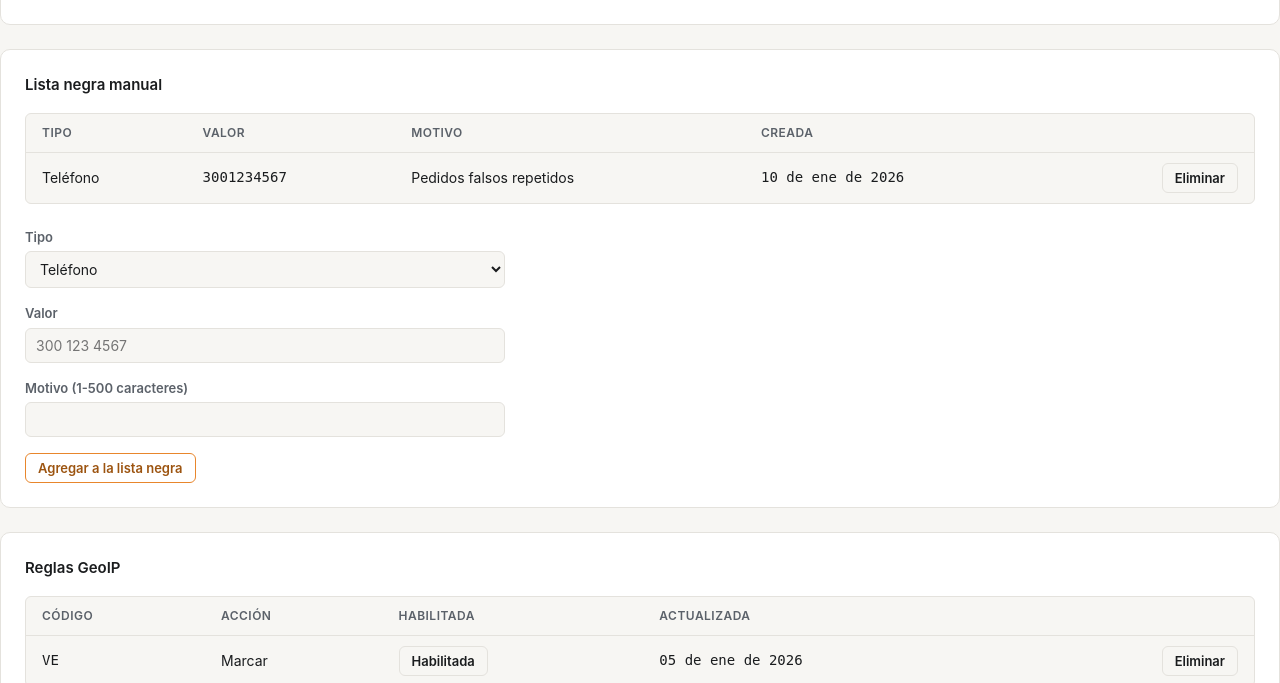
Test: FraudPage › binds a duplicate blacklist entry rejection without touching the existing row
This screenshot has width=1280, height=683.
(page scrolled)
expect the text "3001234567" is shown: met, box [187,152,395,203]
Type "3001234567" into the field labelled "Valor" at [265, 345], box [25,328,505,363]
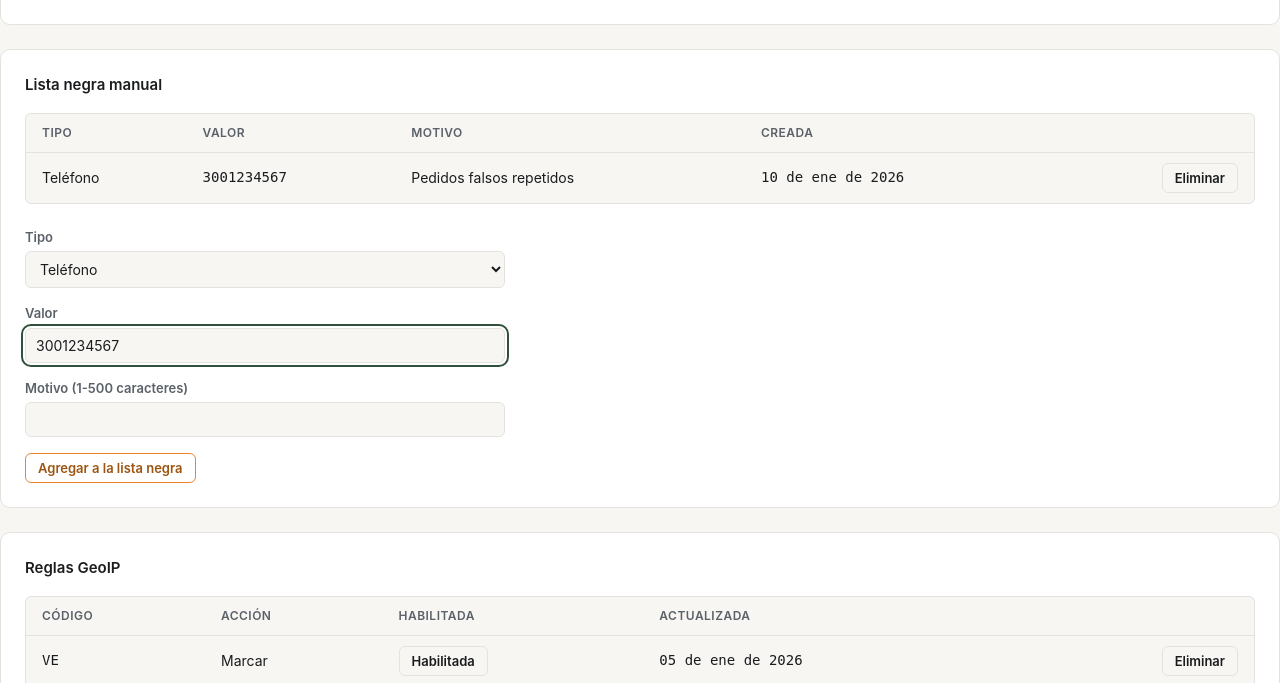
Type "Duplicado" into the field labelled "Motivo (1-500 caracteres)" at [265, 420], box [25,402,505,437]
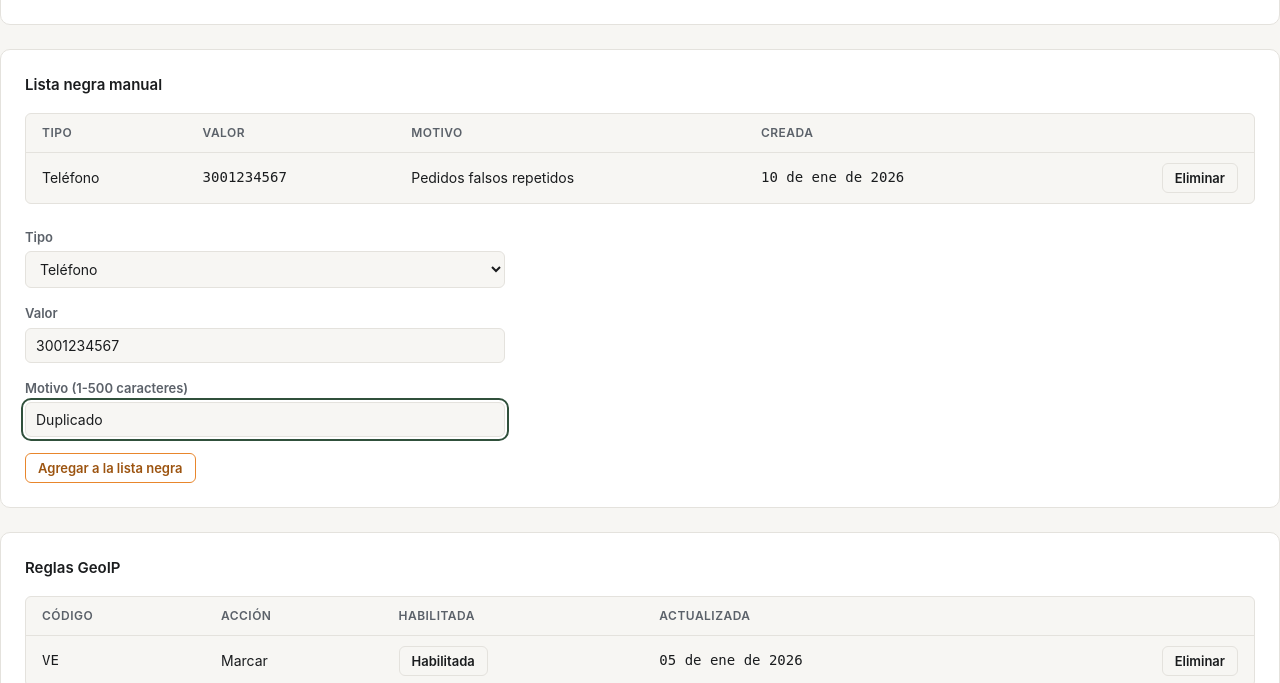
Click the button "Agregar a la lista negra" at [110, 468], box [25,453,196,483]
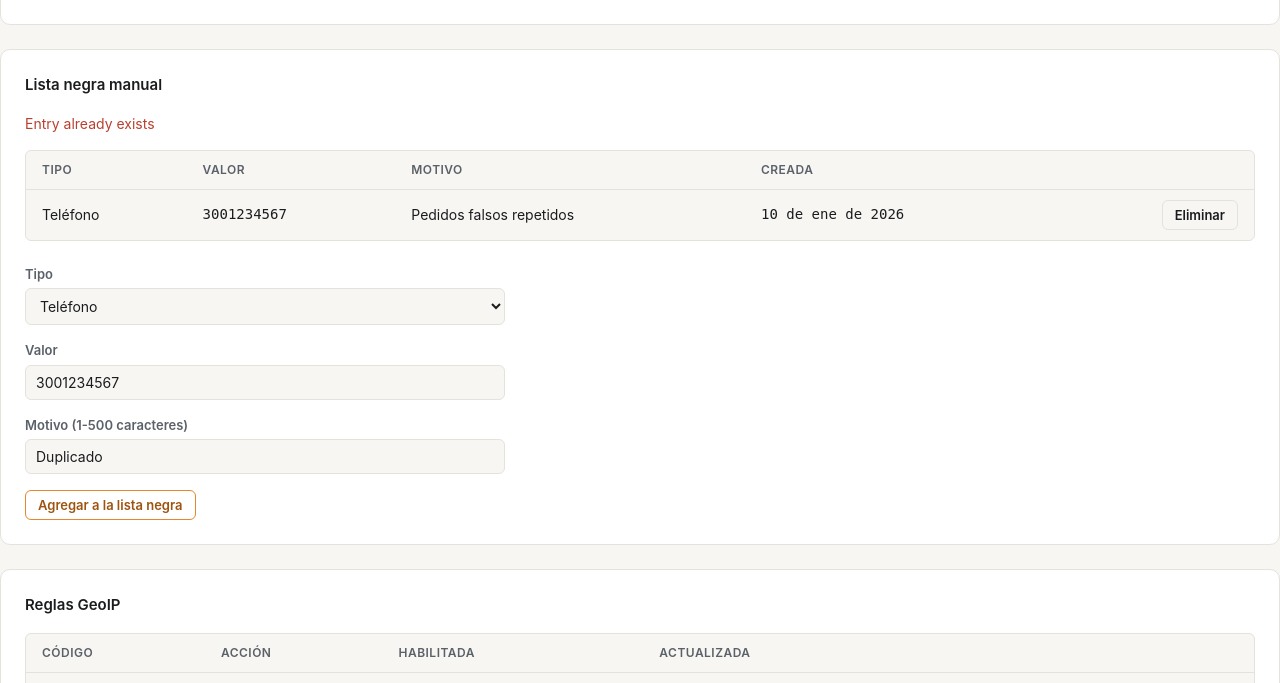
expect the text "3001234567" is shown: met, box [187,189,395,240]
expect the text "Entry already exists" is shown: met, box [25,115,155,132]
